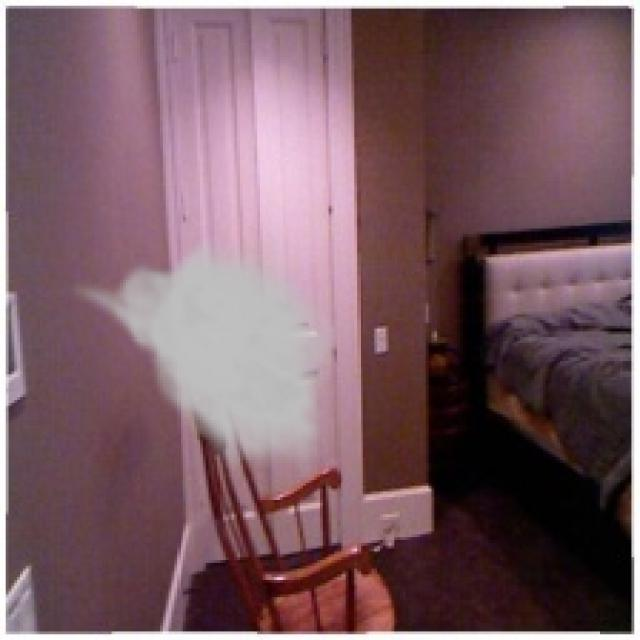smoke: (66, 234, 340, 480)
